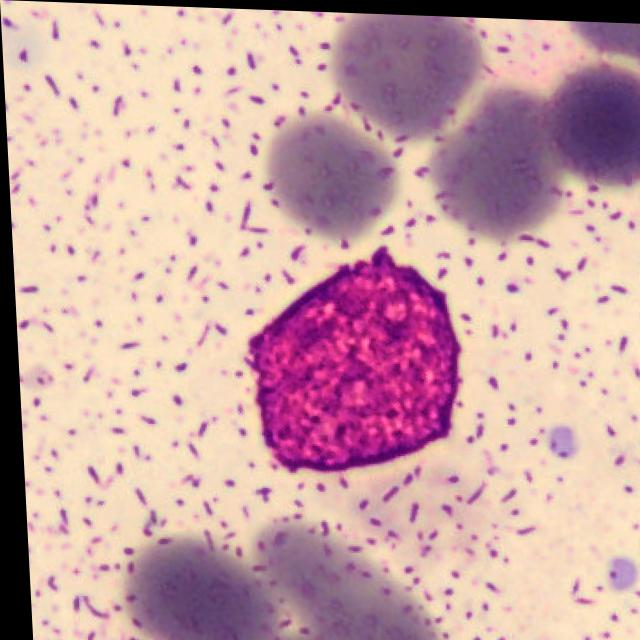Restos celulares: (242, 246, 458, 471)
